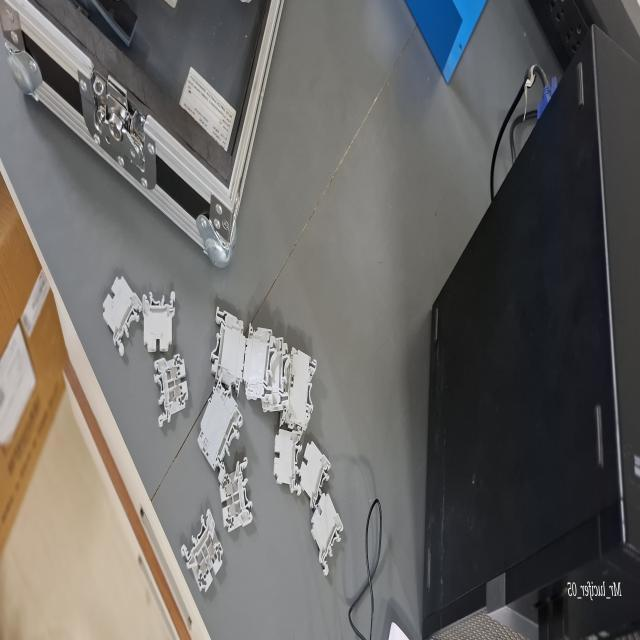Inverted: (98, 276, 144, 360), (308, 491, 344, 581), (296, 438, 332, 510), (142, 285, 176, 355), (271, 424, 302, 498)
Pass: (178, 505, 224, 594), (218, 454, 254, 537), (153, 349, 188, 434)
